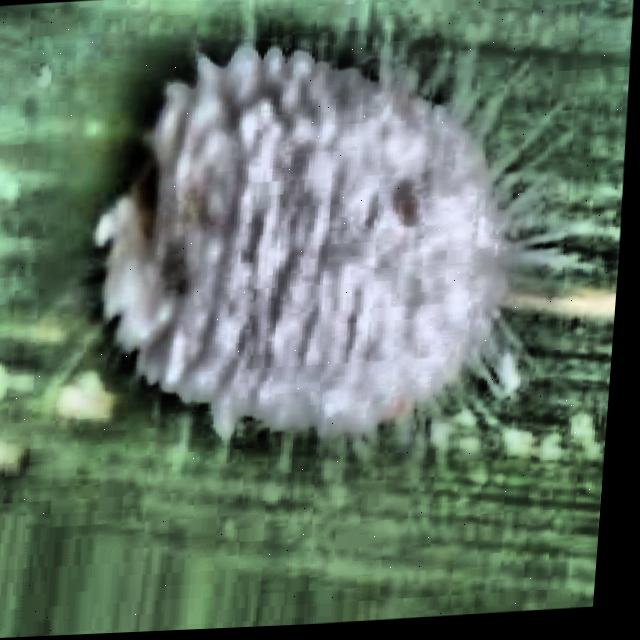Mealy-bug: (0, 0, 639, 530)
